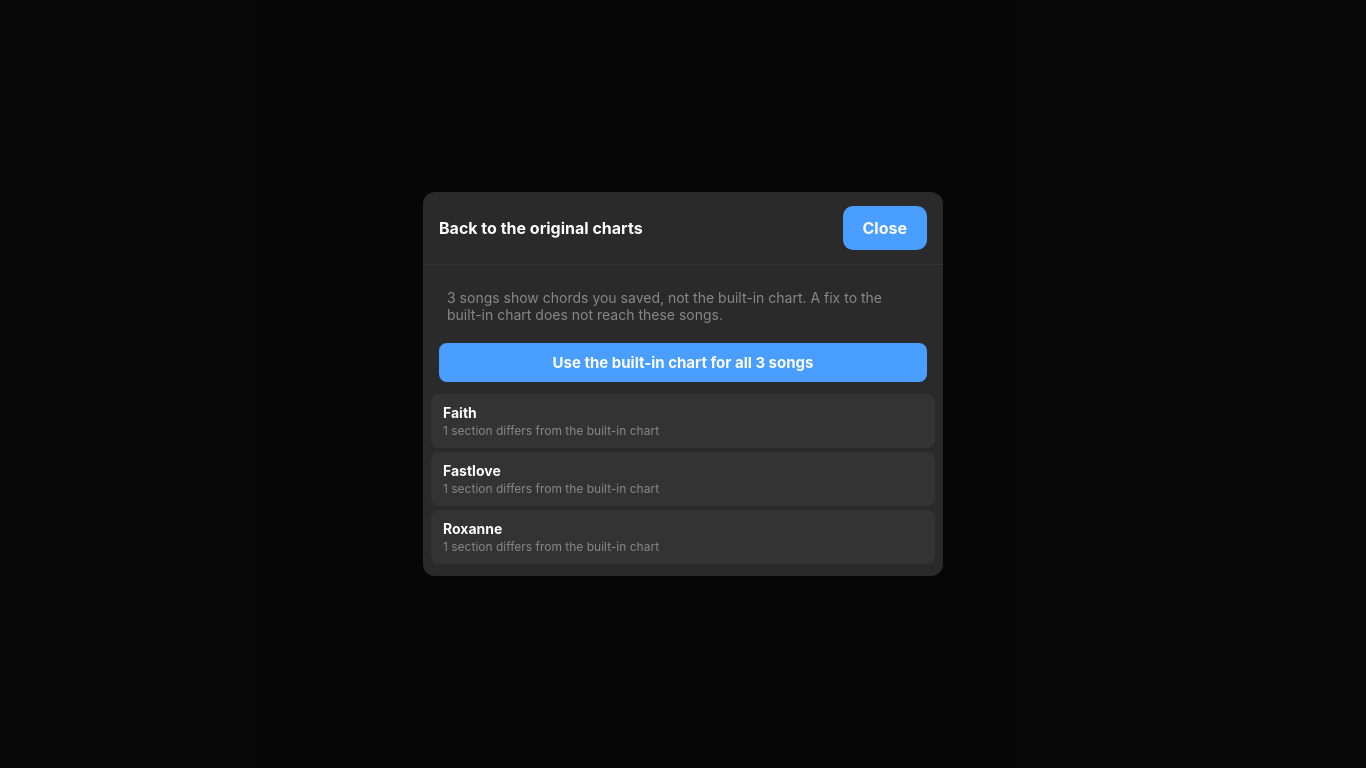
Test: going back for every song at once › puts the built-in chart back on every song that shows chords you saved, keeping each one's chords
Click the button "Use the built-in chart for all 3 songs" at (683, 362), box [439,343,927,382]
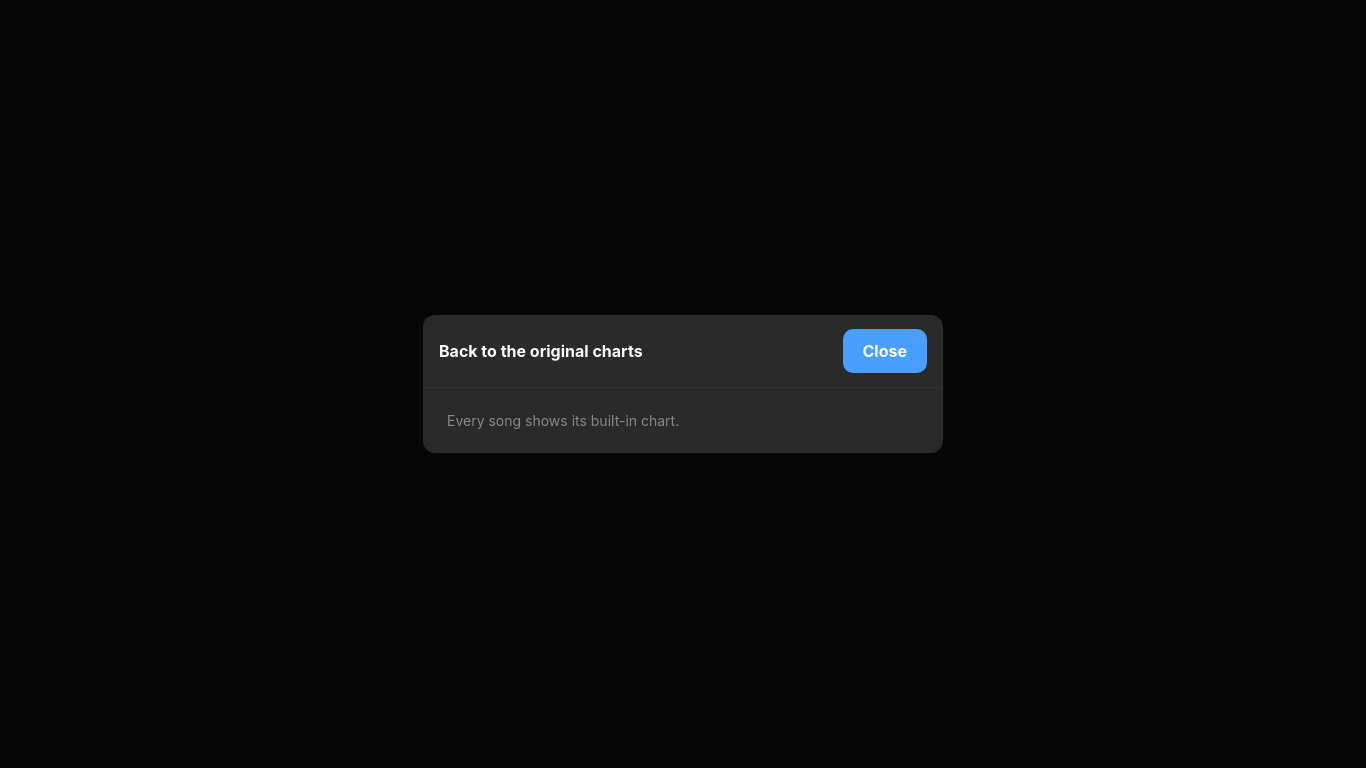
Expected: the text "Every song shows its built-in chart." is shown, [447,412,679,429]
